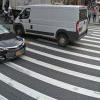Crosswalk: (40, 44, 97, 100)
